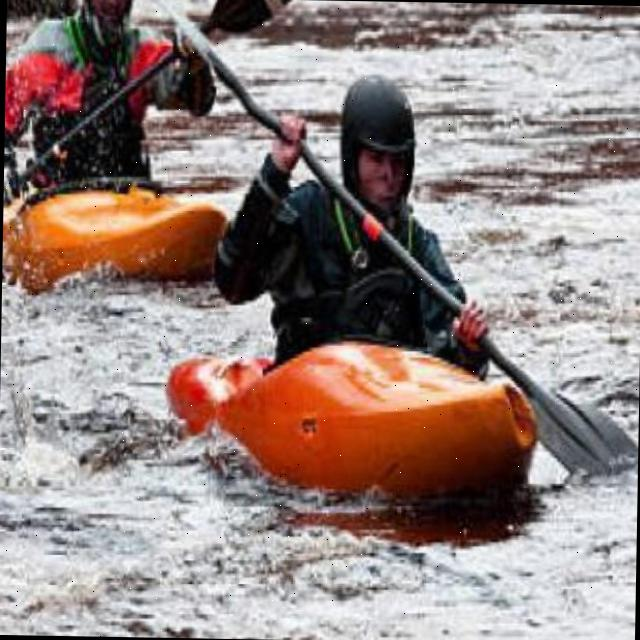kayak: (163, 339, 531, 497), (1, 181, 225, 285)
